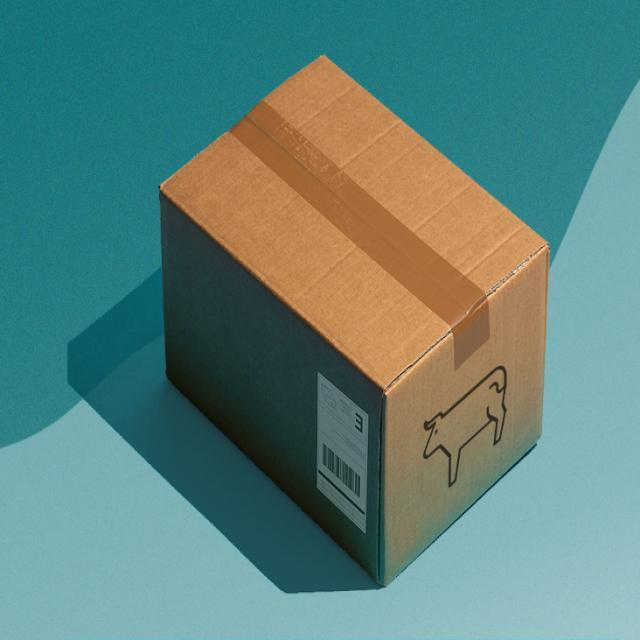-: (156, 53, 560, 594)
